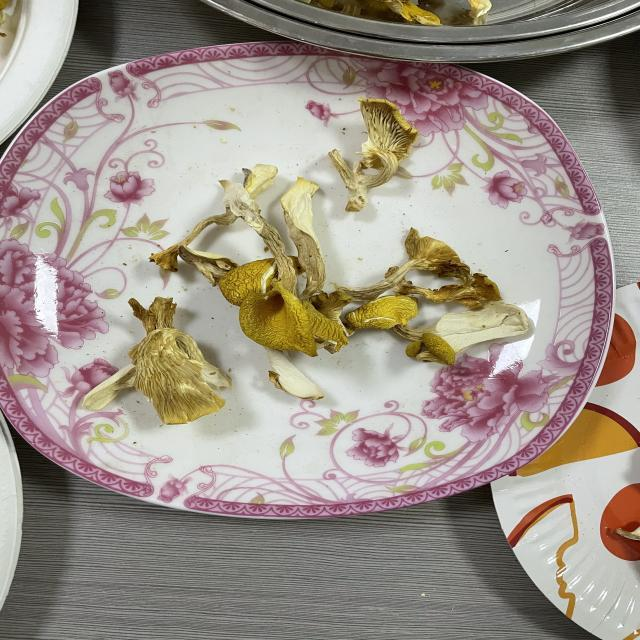Pleurotus citrinopileatus: (218, 80, 532, 369), (396, 310, 566, 417), (134, 167, 282, 233)
